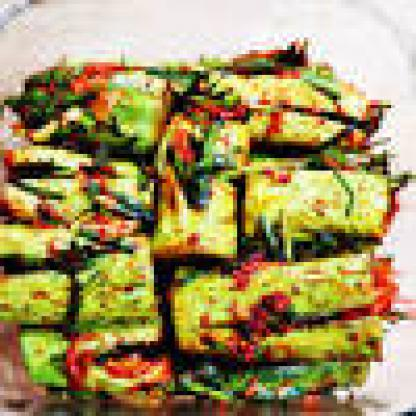cucumber kimchi: (4, 54, 383, 412)
